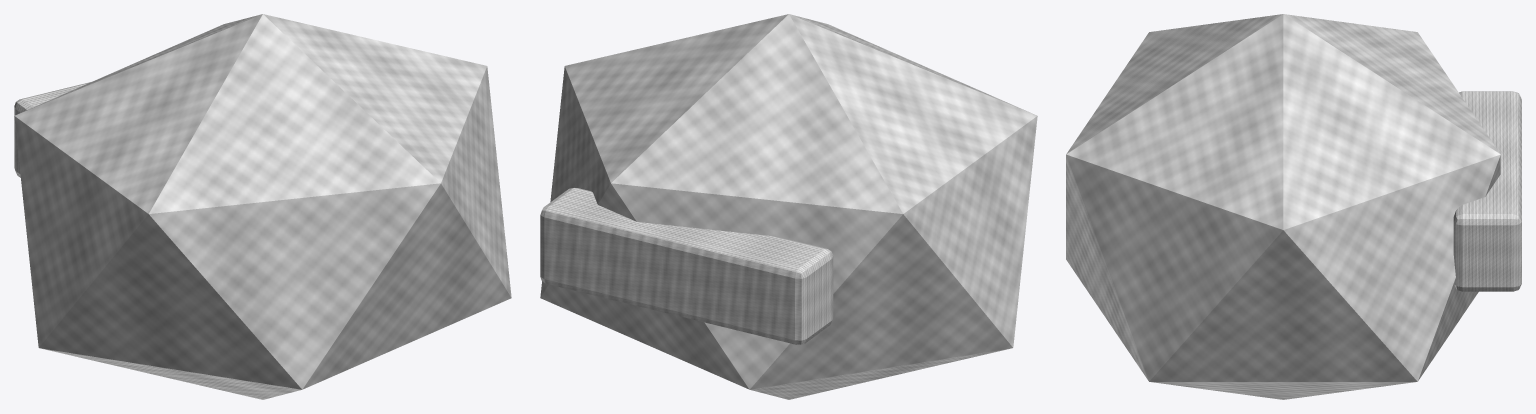
The model's file is item-aluminum-scrap_variant_d.glb.
3 renders of one model, left to right at view 1: azimuth 30°, elevation 25°; view 2: azimuth 150°, elevation 25°; view 3: azimuth 270°, elevation 25°, orthographic.
Visible parts, largest first — view 1: Material chunk.003, Variant modular rail; view 2: Material chunk.003, Variant modular rail; view 3: Material chunk.003, Variant modular rail.
Boxes of the visible parts, x1=… form: Material chunk.003: x1=14, y1=14, x2=511, y2=399; Variant modular rail: x1=14, y1=82, x2=90, y2=177; Material chunk.003: x1=540, y1=14, x2=1037, y2=399; Variant modular rail: x1=540, y1=188, x2=833, y2=344; Material chunk.003: x1=1066, y1=14, x2=1500, y2=399; Variant modular rail: x1=1453, y1=91, x2=1521, y2=291.
Size of what is drawn, in the model's own units: 0.6082 by 0.5 by 0.5352.
2 materials, 2 textured.
